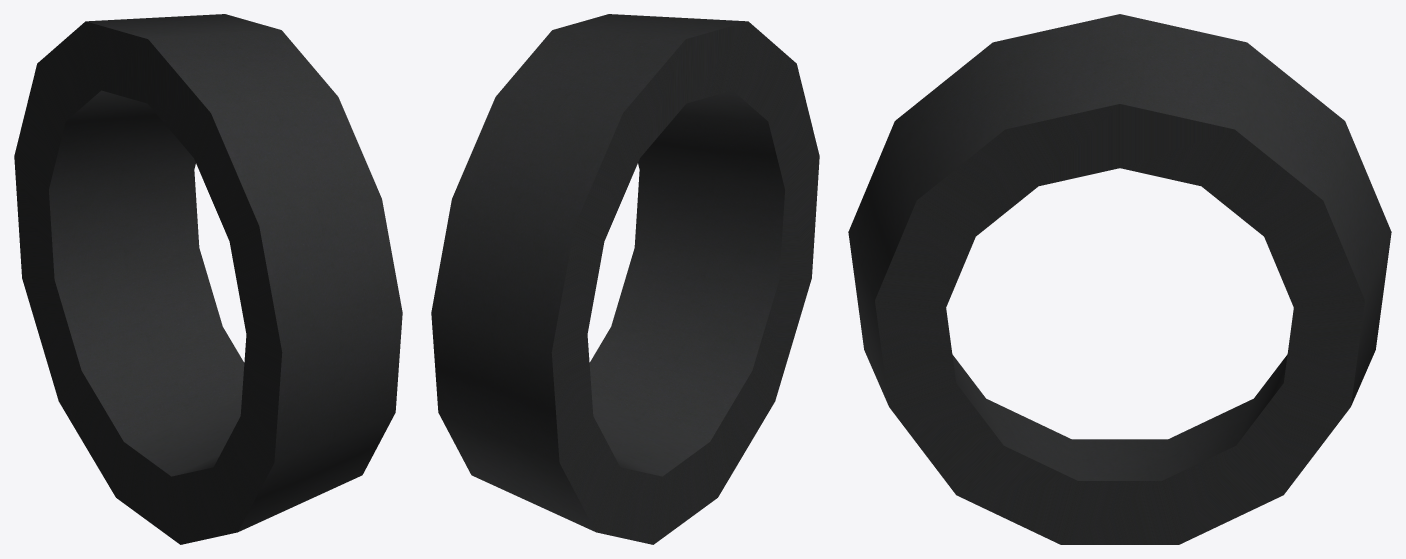
The model's file is Handguard_Slip_Ring.dae.
The picture shows the model from 3 angles, left to right: view 1: azimuth 30°, elevation 25°; view 2: azimuth 150°, elevation 25°; view 3: azimuth 270°, elevation 25°; orthographic projection.
Visible parts, largest first — view 1: Handguard_Slip_Ring; view 2: Handguard_Slip_Ring; view 3: Handguard_Slip_Ring.
Part boxes in pixels (left/top/right/bottom): Handguard_Slip_Ring: left=14, top=14, right=402, bottom=544; Handguard_Slip_Ring: left=431, top=14, right=819, bottom=544; Handguard_Slip_Ring: left=848, top=14, right=1391, bottom=544.
Bounding box in the file's own units: 0.015 × 0.0517 × 0.0513.
Materials: 1 (1 with a texture image).
